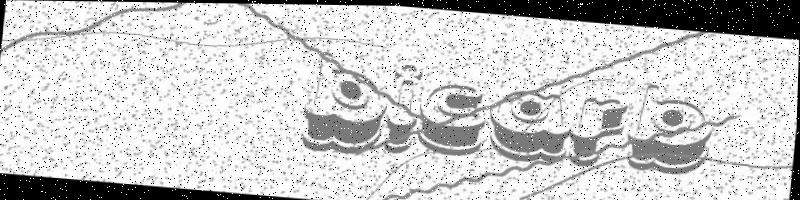a: (484, 85, 574, 164)
b: (299, 49, 391, 158), (624, 78, 717, 175)
c: (415, 79, 489, 158)
i: (384, 60, 423, 153)
r: (570, 93, 629, 170)
